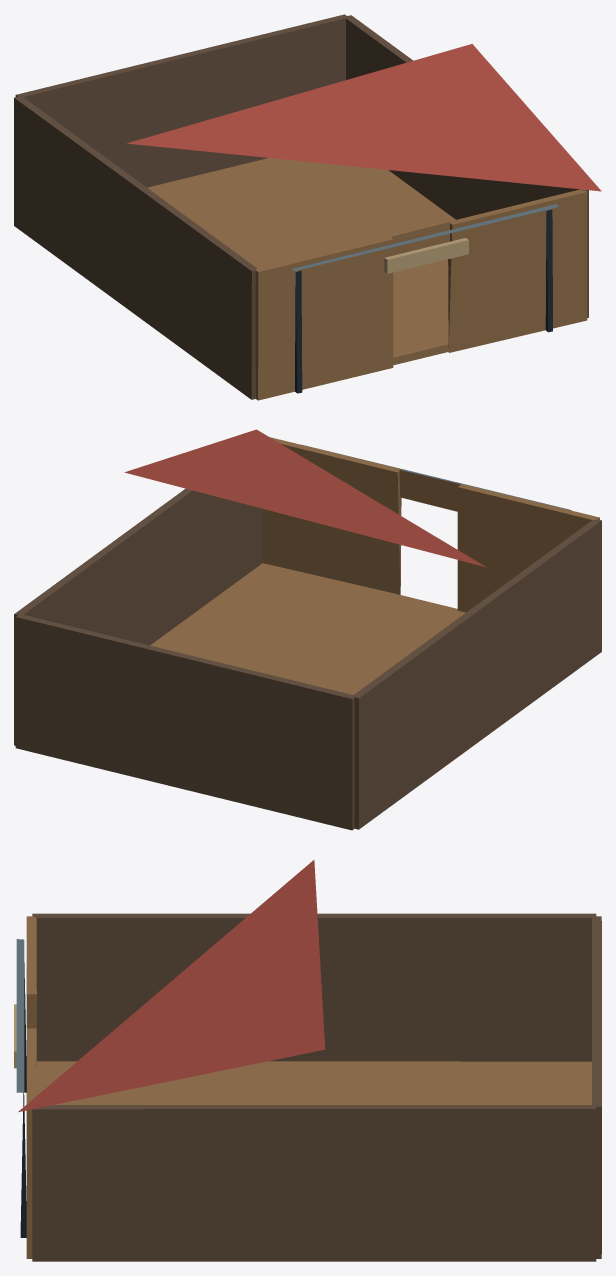
File: harbor-warehouse.lod2.glb
3 views of the same model, one above another, from view 1: azimuth 30°, elevation 25°; view 2: azimuth 150°, elevation 25°; view 3: azimuth 270°, elevation 25° (orthographic). The views are drawn at different scales.
Visible parts, largest first — view 1: harbor-warehouse__body, harbor-warehouse__front-wall, harbor-warehouse__roof; view 2: harbor-warehouse__body, harbor-warehouse__front-wall, harbor-warehouse__roof; view 3: harbor-warehouse__body, harbor-warehouse__roof, harbor-warehouse__front-wall.
Boxes of the visible parts, bbox=[...] form: harbor-warehouse__body: bbox=[14, 14, 588, 399]; harbor-warehouse__front-wall: bbox=[255, 189, 587, 400]; harbor-warehouse__roof: bbox=[126, 44, 601, 191]; harbor-warehouse__body: bbox=[14, 444, 601, 830]; harbor-warehouse__front-wall: bbox=[262, 437, 599, 612]; harbor-warehouse__roof: bbox=[124, 429, 486, 567]; harbor-warehouse__body: bbox=[14, 913, 601, 1261]; harbor-warehouse__roof: bbox=[18, 860, 325, 1112]; harbor-warehouse__front-wall: bbox=[26, 916, 36, 1258].
Size of the model in its own units: 8.5 by 4.24 by 10.4.
